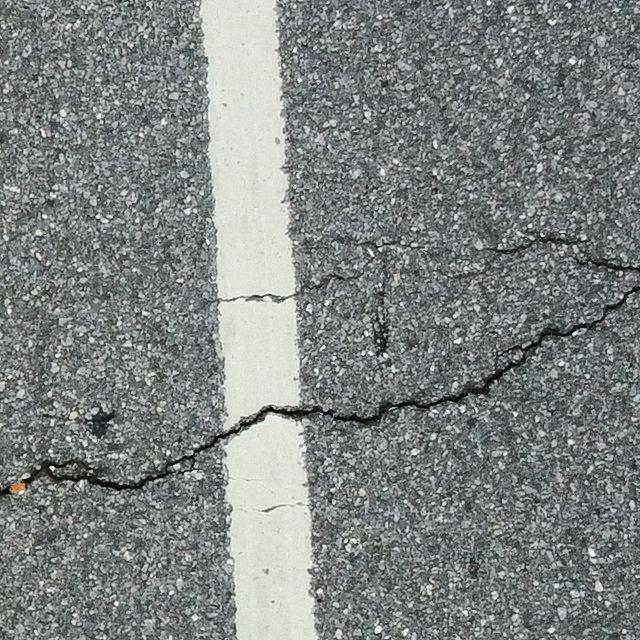TransverseCrack: (1, 287, 640, 498), (485, 238, 640, 274)
